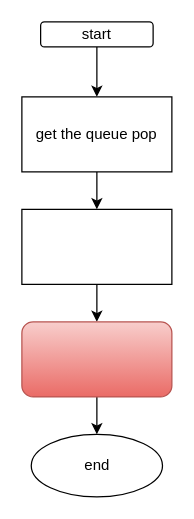
The diagram is 194 pixels wide and 519 high, and some of its shapes have lost their labels. The shapes that lost their labels are listed below. From the top down, each one's centre as x and y in pixels, then its label:
At point 96,246: "get the queue slot and over queue slot".
At point 96,359: "call queuing for secondary queue".
